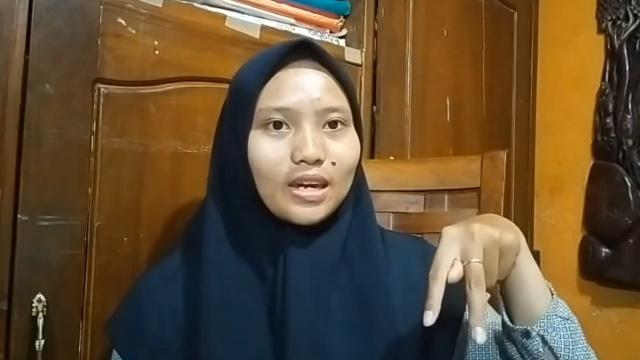P: (420, 210, 520, 350)
